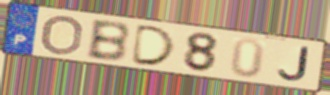0: (228, 37, 267, 80)
8: (183, 31, 221, 73)
B: (84, 19, 132, 64)
D: (128, 23, 178, 68)
J: (276, 45, 311, 83)
O: (39, 13, 86, 56)
